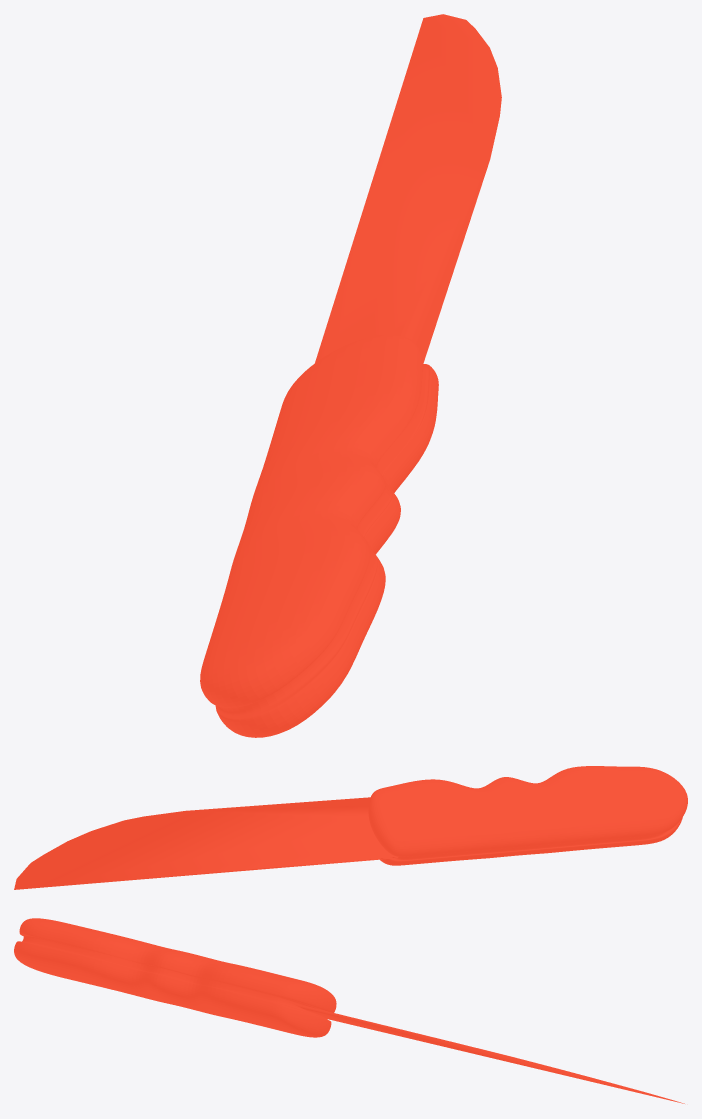
Rendered from reescaladoglb.glb.
3 views of the same model, one above another, from view 1: azimuth 30°, elevation 25°; view 2: azimuth 150°, elevation 25°; view 3: azimuth 270°, elevation 25° (orthographic). The views are drawn at different scales.
Visible parts, largest first — view 1: Cube.002; view 2: Cube.002; view 3: Cube.002.
Part boxes in pixels (left/top/right/bottom): Cube.002: left=200, top=14, right=501, bottom=737; Cube.002: left=14, top=766, right=687, bottom=889; Cube.002: left=14, top=918, right=684, bottom=1103.
Bounding box in the file's own units: 0.9631 × 0.2035 × 1.28.
